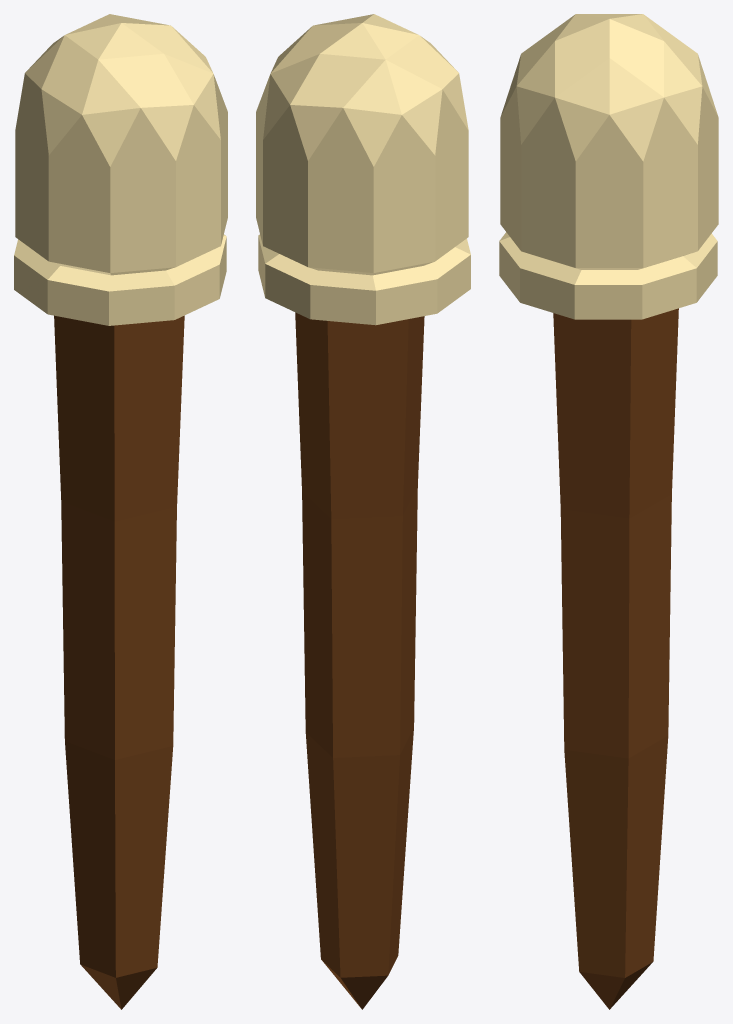
Rendered from Torch.fbx.
3 renders of one model, left to right at view 1: azimuth 30°, elevation 25°; view 2: azimuth 150°, elevation 25°; view 3: azimuth 270°, elevation 25°, orthographic.
Parts seen in each view (by area): view 1: Torch; view 2: Torch; view 3: Torch.
Part boxes in pixels (x1=…): Torch: x1=14, y1=14, x2=227, y2=1009; Torch: x1=256, y1=14, x2=470, y2=1009; Torch: x1=499, y1=14, x2=718, y2=1009.
Bounding box in the file's own units: 158 × 825 × 165.
